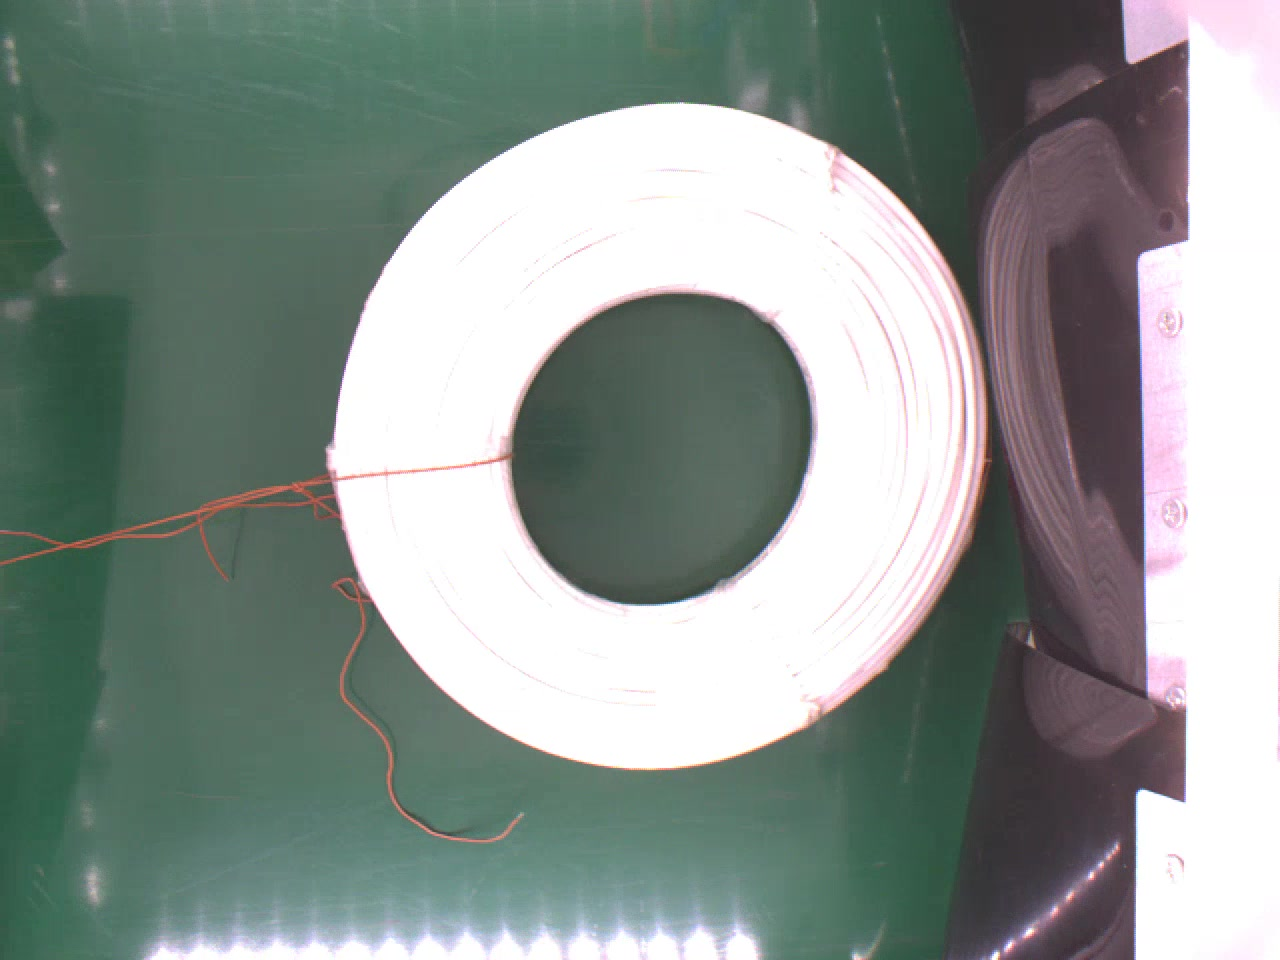white: (326, 95, 994, 767)
